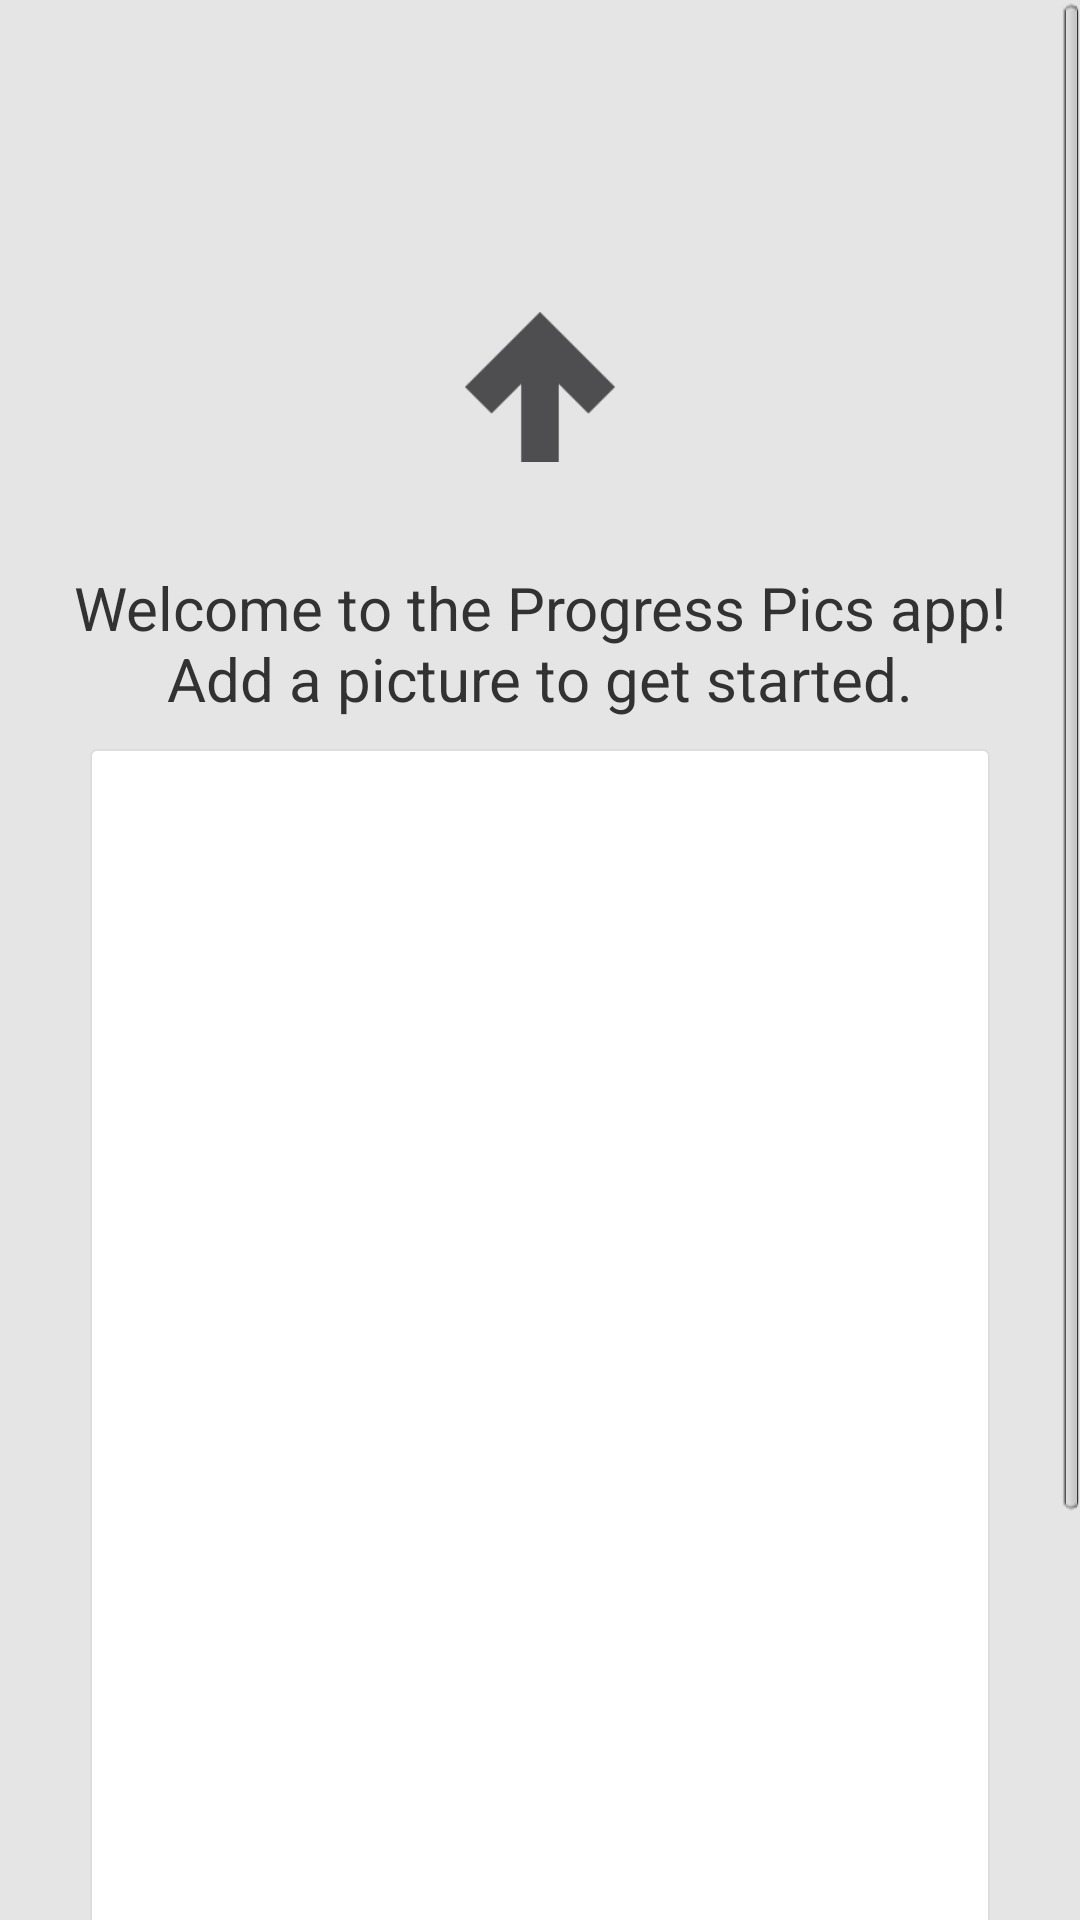

Named icons in this screenshot (1080px x 1920px) and their bounding boxes, (x1, y1, x2, y2):
grayarrow: (465, 312, 615, 462)
